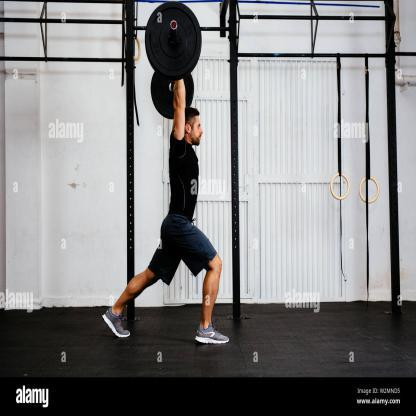Barbell: (169, 19, 180, 34)
